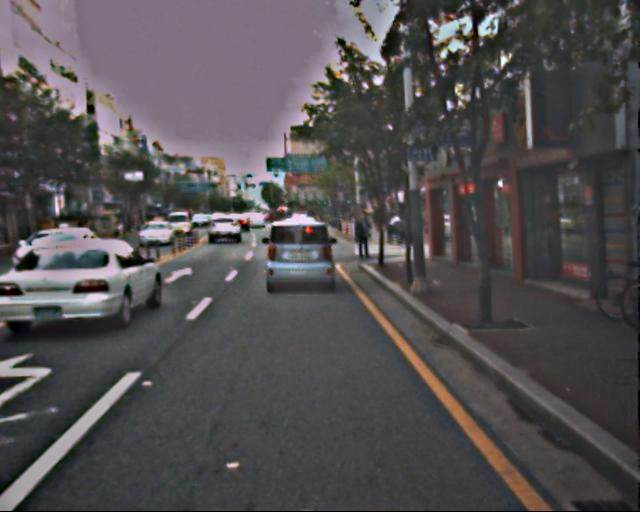person: (353, 207, 375, 260), (386, 213, 409, 246)
